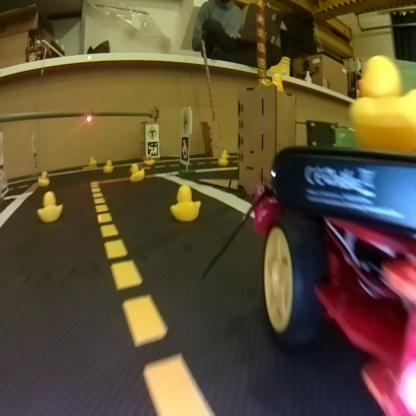duckie: (342, 38, 416, 154), (158, 178, 206, 228), (35, 183, 64, 223), (126, 158, 150, 188), (32, 162, 56, 185), (100, 156, 116, 174)
duckiebot: (242, 143, 415, 415)
